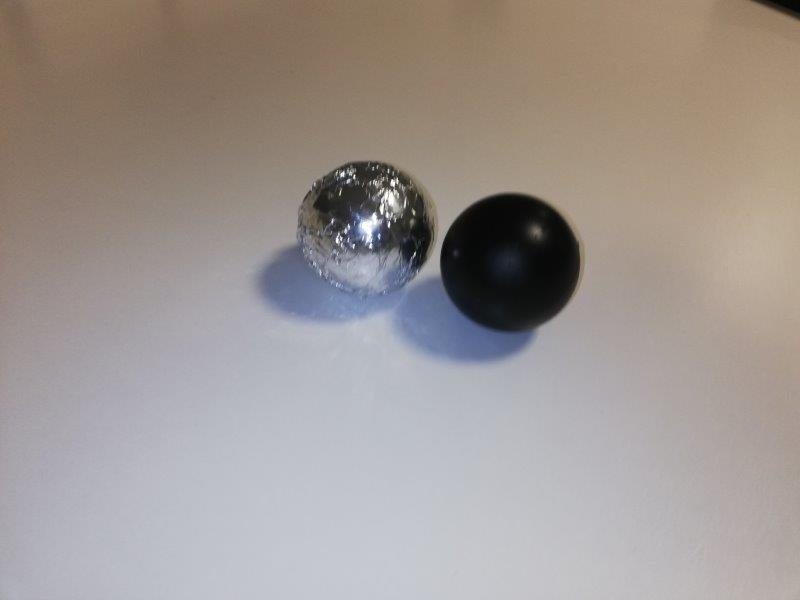bianca: (297, 159, 437, 297)
nera: (443, 193, 580, 329)
